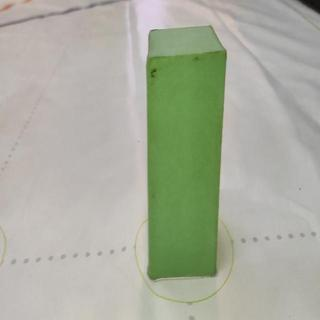greenbox: (145, 23, 229, 283)
